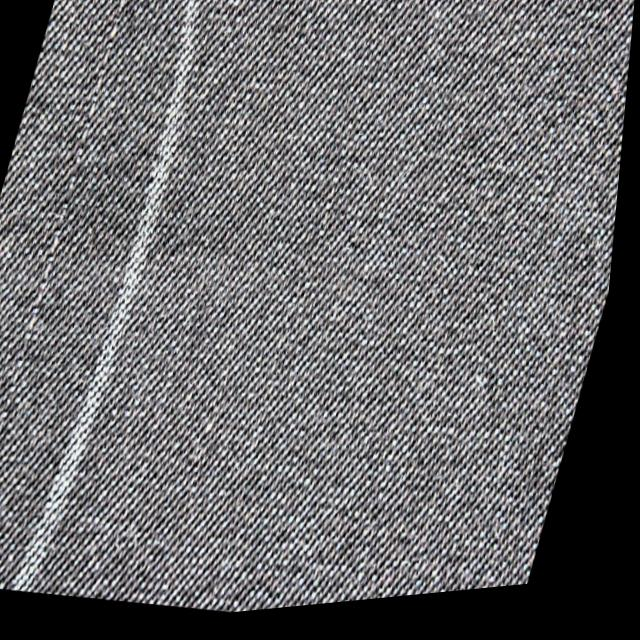Hole: (27, 192, 82, 335), (80, 0, 131, 133)
